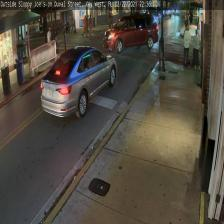person: (192, 29, 201, 70), (183, 24, 191, 66)
